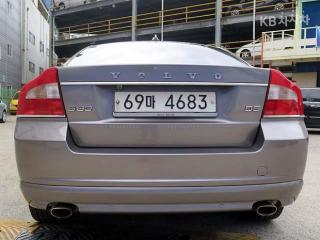3: (198, 93, 209, 111)
4: (163, 93, 176, 111)
6: (122, 92, 135, 111), (176, 93, 187, 110)
8: (186, 93, 198, 110)
9: (133, 93, 145, 111)
마: (145, 94, 158, 110)
